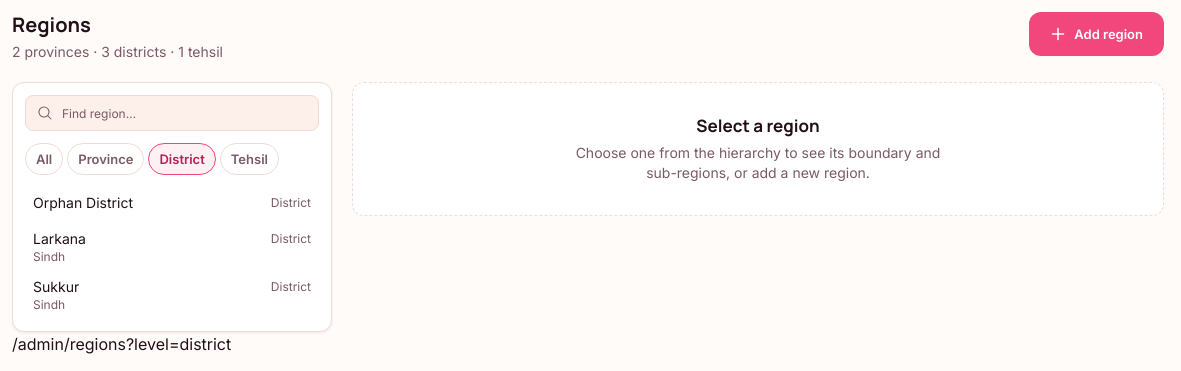
Scenario: RegionsPage — browsing › filters by level, and starts from a level in the URL
Expected: the list named "Matching regions" is shown, [25,187,319,319]
Expected: the number of links is 3, [33,194,311,211]; [25,223,319,271]; [25,271,319,319]
What coordinates should you click on to do the following:
click the button "Tehsil"
I would click on:
 (249, 159)
Its box is [220,143,279,175].
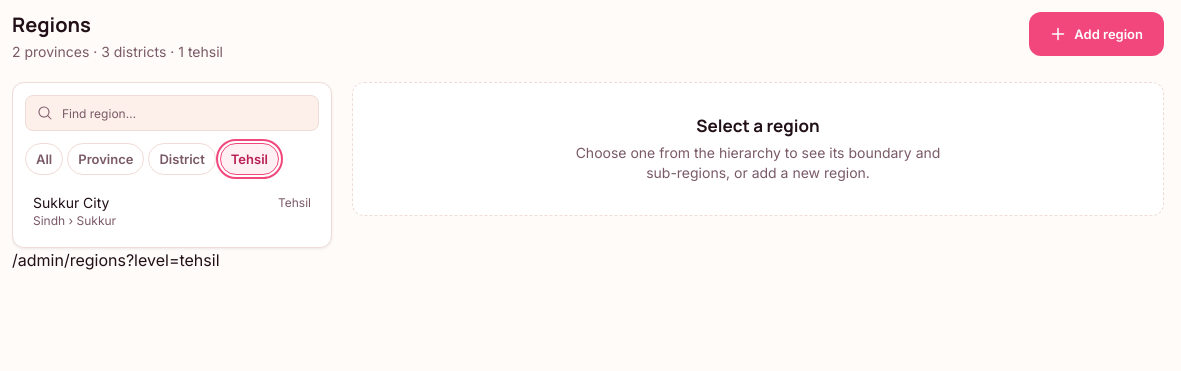
Now the number of links is 1, box [25,187,319,235]
Now the text with test id "location" reads "/admin/regions?level=tehsil", box [12,250,220,270]
